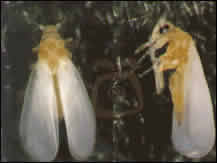whitefly: (132, 15, 215, 155), (19, 24, 96, 162)
